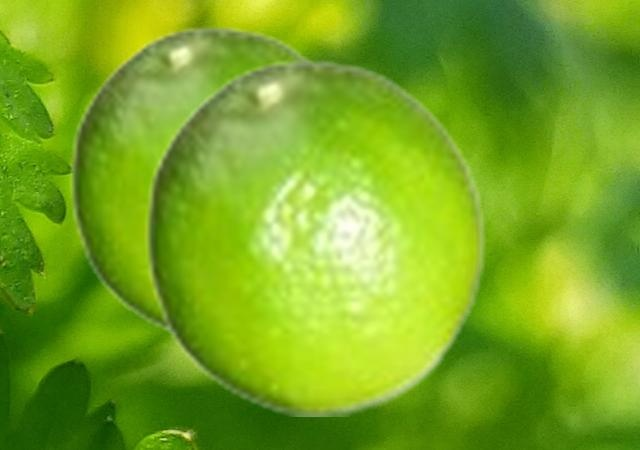calamansi: (144, 57, 487, 415), (69, 24, 318, 341)
